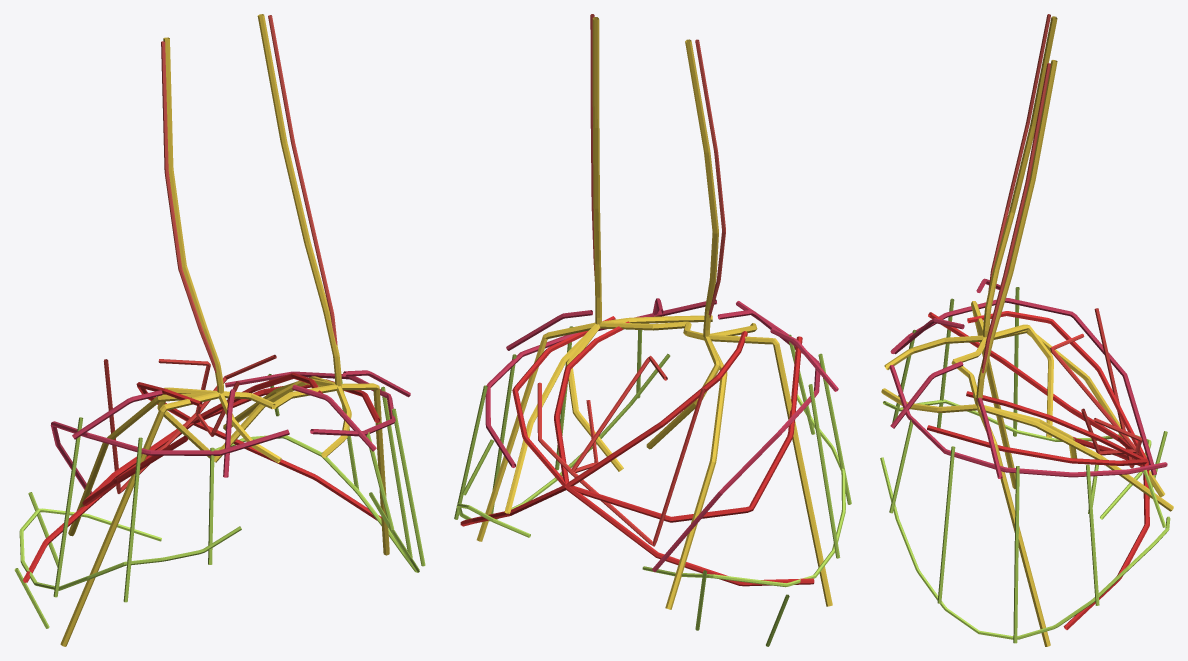
Rendered from anatomyverse-diasupply.glb.
3 renders of one model, left to right at view 1: azimuth 30°, elevation 25°; view 2: azimuth 150°, elevation 25°; view 3: azimuth 270°, elevation 25°, orthographic. The views are drawn at different scales.
Visible parts, largest first — view 1: phrenic_nerve_dia, lower_intercostal_n, musculophrenic_a, inferior_phrenic_a, pericardiophrenic_a, superior_phrenic_a; view 2: phrenic_nerve_dia, inferior_phrenic_a, lower_intercostal_n, musculophrenic_a, superior_phrenic_a, pericardiophrenic_a; view 3: phrenic_nerve_dia, lower_intercostal_n, inferior_phrenic_a, musculophrenic_a, pericardiophrenic_a, superior_phrenic_a.
Boxes of the visible parts, x1=… form: phrenic_nerve_dia: x1=60, y1=14, x2=389, y2=646; lower_intercostal_n: x1=14, y1=374, x2=425, y2=628; musculophrenic_a: x1=50, y1=370, x2=410, y2=494; inferior_phrenic_a: x1=23, y1=372, x2=381, y2=582; pericardiophrenic_a: x1=161, y1=15, x2=337, y2=372; superior_phrenic_a: x1=103, y1=354, x2=276, y2=493; phrenic_nerve_dia: x1=476, y1=17, x2=832, y2=609; inferior_phrenic_a: x1=460, y1=316, x2=814, y2=586; lower_intercostal_n: x1=454, y1=326, x2=851, y2=646; musculophrenic_a: x1=485, y1=298, x2=838, y2=572; superior_phrenic_a: x1=537, y1=355, x2=705, y2=546; pericardiophrenic_a: x1=590, y1=14, x2=725, y2=317; phrenic_nerve_dia: x1=881, y1=16, x2=1173, y2=646; lower_intercostal_n: x1=880, y1=287, x2=1170, y2=643; inferior_phrenic_a: x1=927, y1=311, x2=1149, y2=629; musculophrenic_a: x1=889, y1=278, x2=1167, y2=478; pericardiophrenic_a: x1=981, y1=14, x2=1050, y2=373; superior_phrenic_a: x1=1050, y1=308, x2=1142, y2=468.
Bounding box in the file's own units: 0.2609 × 0.3995 × 0.1958.
